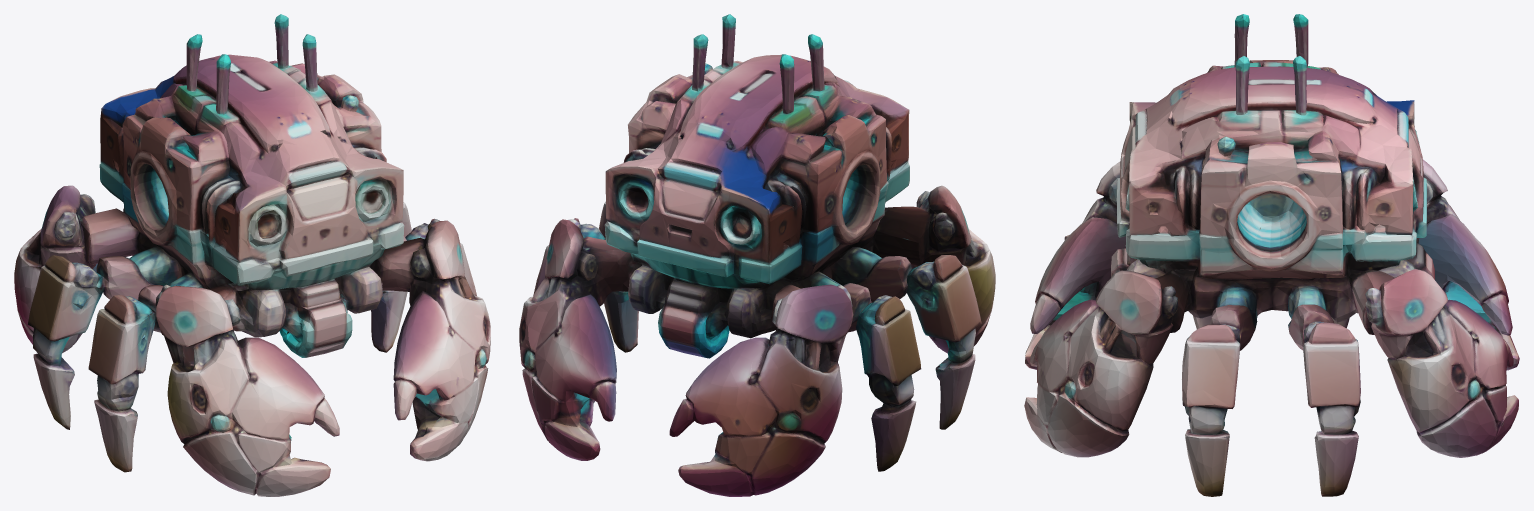
The picture shows the model from 3 angles, left to right: view 1: azimuth 30°, elevation 25°; view 2: azimuth 150°, elevation 25°; view 3: azimuth 270°, elevation 25°; orthographic projection. The views are drawn at different scales.
Parts seen in each view (by area): view 1: world; view 2: world; view 3: world.
Part boxes in pixels (x1,y1,x2,y2): world: (14, 14, 490, 496); world: (519, 14, 995, 496); world: (1024, 14, 1519, 496).
Bounding box in the file's own units: 0.6591 × 0.6447 × 0.755.
Materials: 1 (1 with a texture image).
